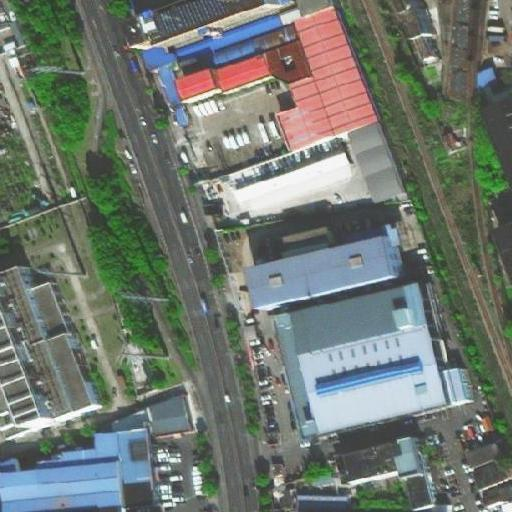building: (272, 278, 477, 446), (0, 264, 105, 430), (242, 232, 403, 315), (293, 4, 383, 142), (0, 459, 124, 511), (277, 75, 334, 156), (341, 438, 425, 492), (214, 50, 275, 99), (262, 37, 314, 87), (117, 430, 159, 485), (172, 67, 225, 110), (147, 390, 195, 436), (282, 216, 340, 249), (456, 430, 503, 463), (471, 458, 508, 494), (95, 408, 150, 432), (404, 469, 436, 510), (295, 488, 352, 510), (481, 477, 512, 512), (476, 66, 501, 90)
